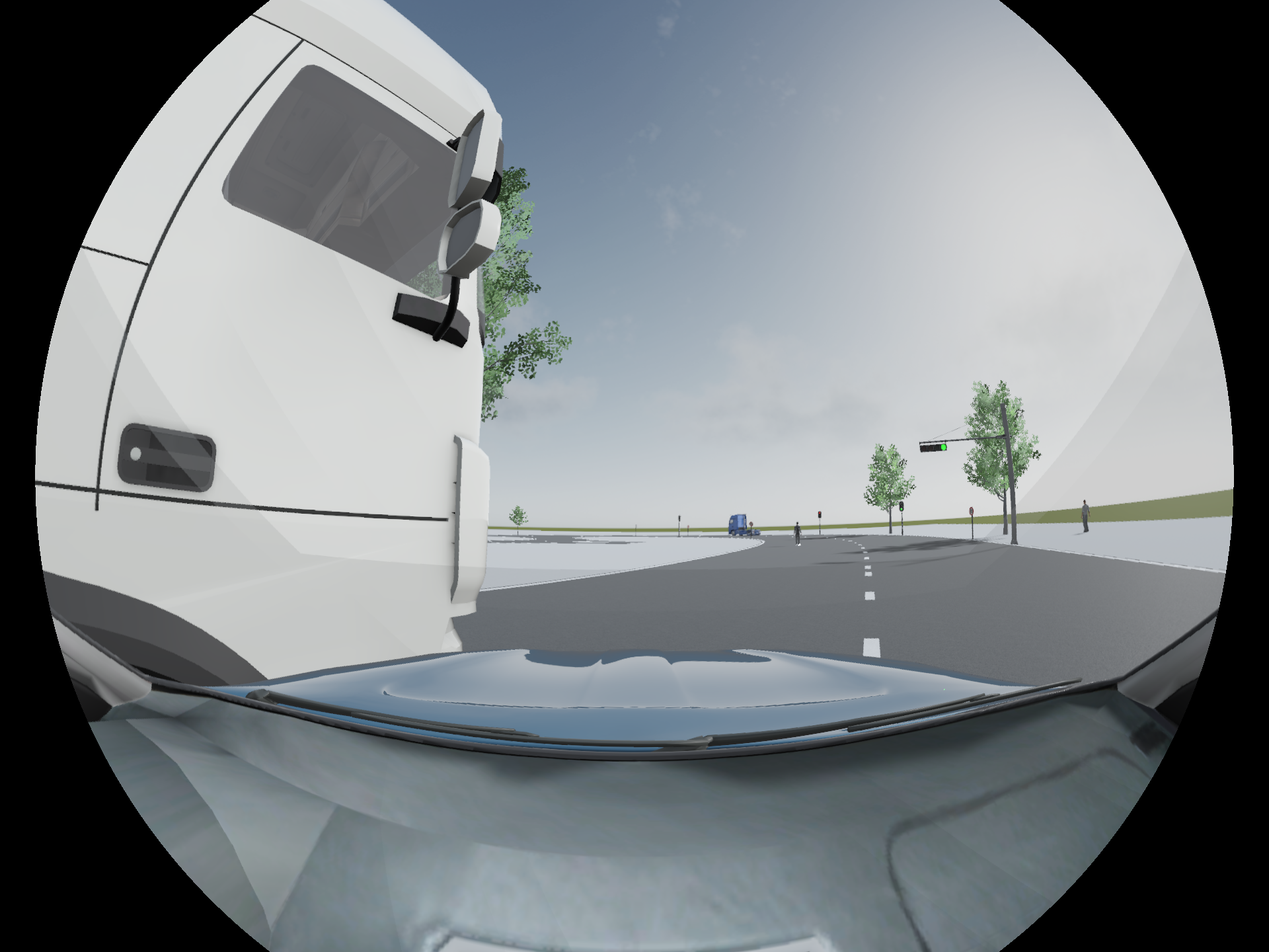Green Light: (921, 442, 947, 453), (898, 500, 904, 513)
Speed Limit 70: (969, 507, 974, 515)
